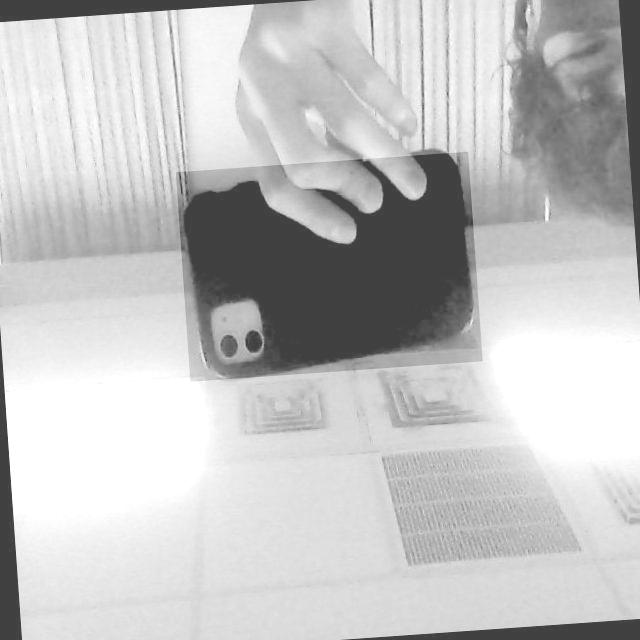lens: (208, 298, 266, 363)
phone: (182, 148, 490, 378)
